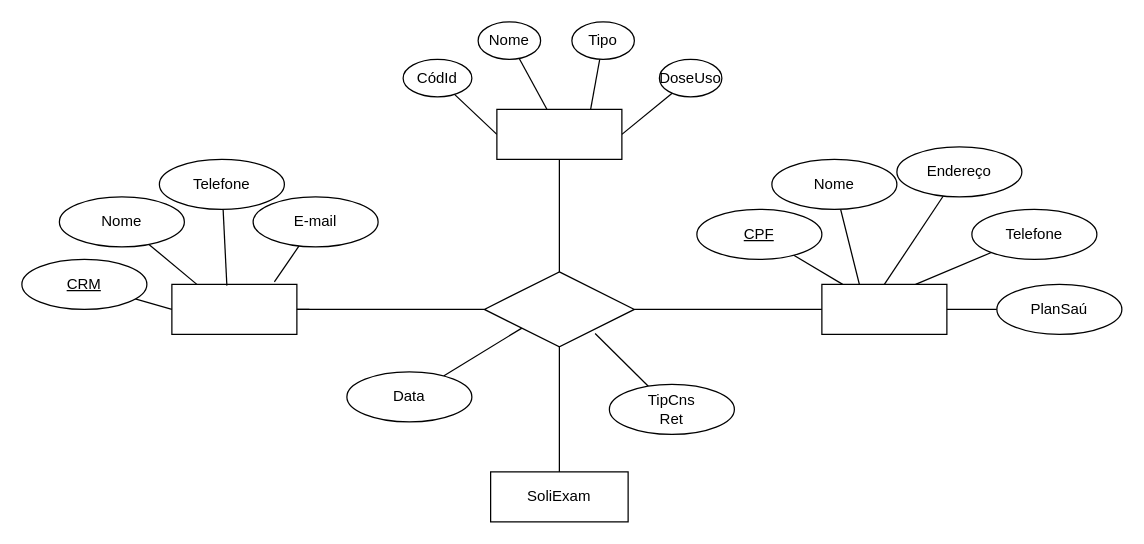
This 1144x544 diagram has some shape labels left out. The centre of each missing label's shape, as x and y in pixels:
"Consulta" belongs at [558,309].
"Medicamentos" belongs at [559,133].
"Médico" belongs at [234,308].
"Paciente" belongs at [884,308].
